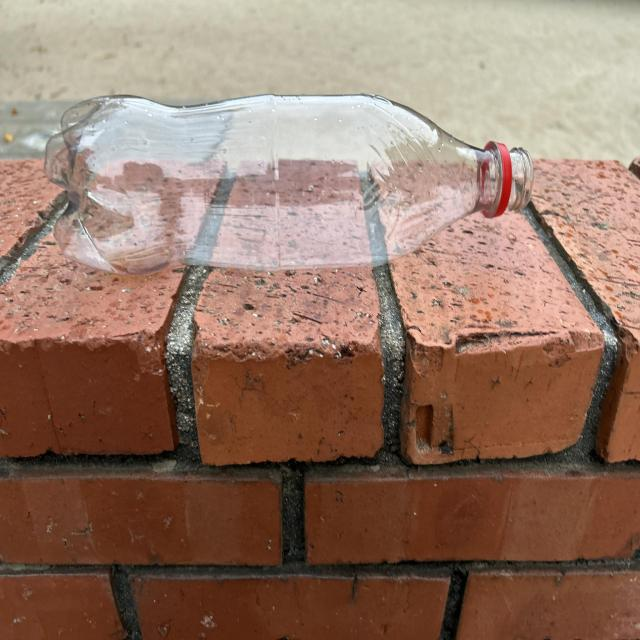empty: (45, 94, 533, 274)
